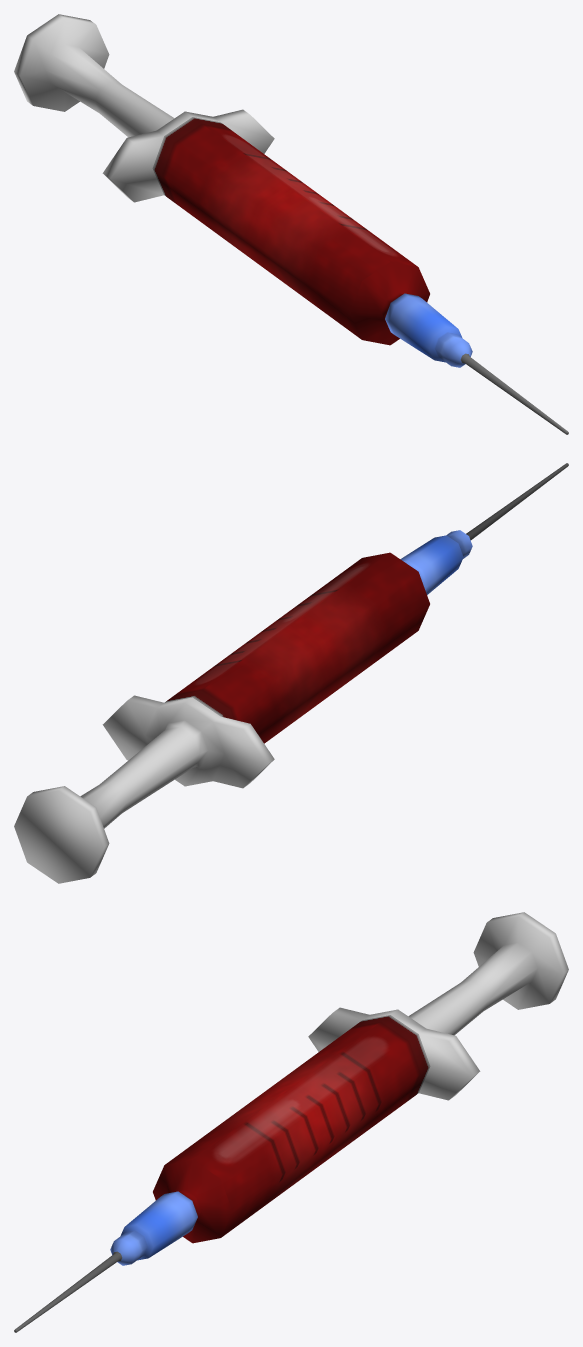
File: Syringe.fbx
3 renders of one model, top to bottom at view 1: azimuth 30°, elevation 25°; view 2: azimuth 150°, elevation 25°; view 3: azimuth 330°, elevation 25°, orthographic.
Parts seen in each view (by area): view 1: Cylinder; view 2: Cylinder; view 3: Cylinder.
Boxes of the visible parts, <box> form: Cylinder: <box>14,14,568,434</box>; Cylinder: <box>14,463,568,883</box>; Cylinder: <box>14,912,568,1332</box>.
Bounding box in the file's own units: 0.0387 × 0.021 × 0.2074.
